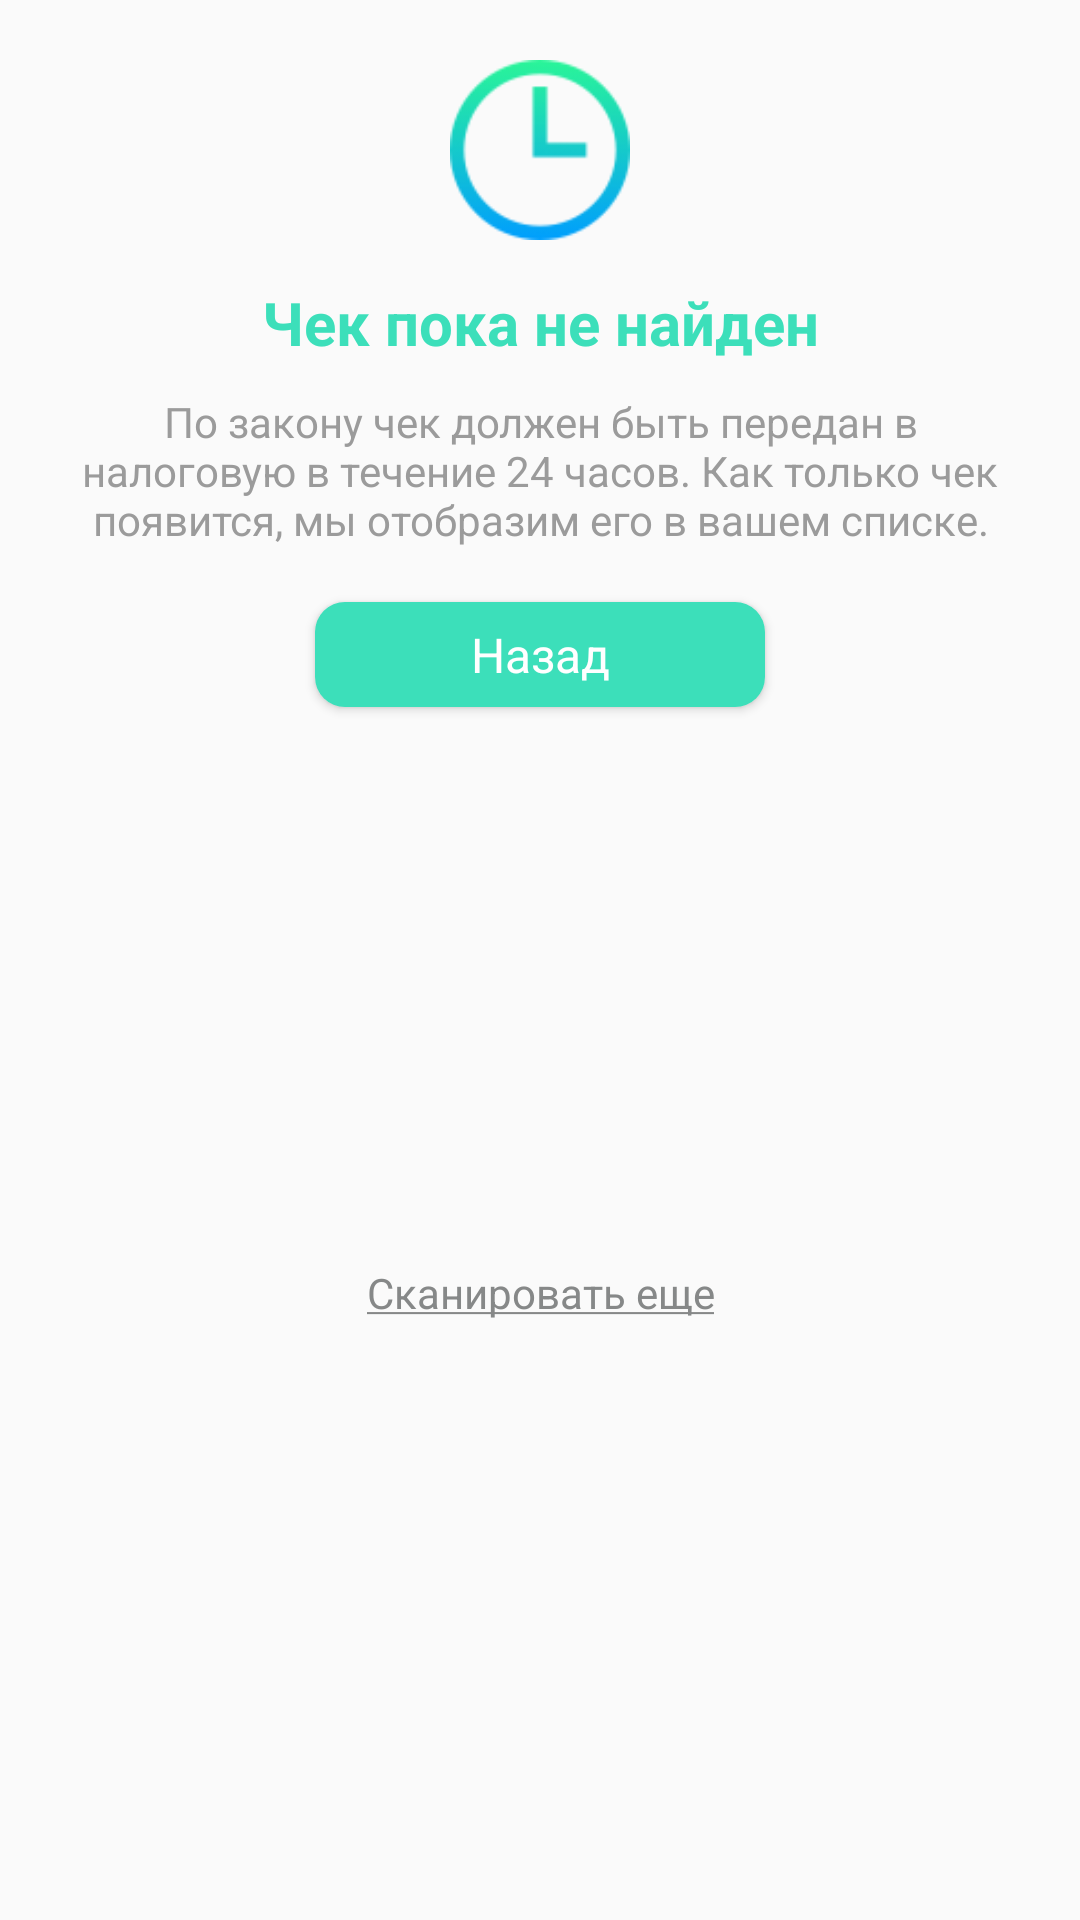

Screen size 1080*1920. Icon name, then its box in pixels as (x1, y1, x2, y2):
wall clock: (450, 60, 630, 240)
